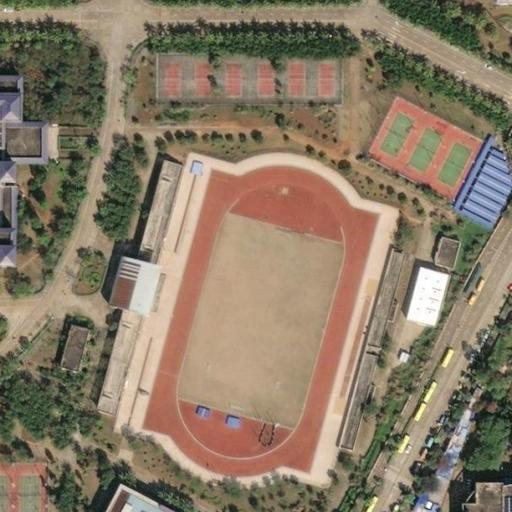building: (83, 304, 135, 410), (94, 238, 152, 310), (353, 245, 393, 346), (325, 350, 365, 448), (127, 159, 170, 249), (441, 136, 482, 208), (393, 264, 439, 323), (449, 469, 512, 512), (411, 445, 453, 507), (98, 482, 184, 512), (0, 116, 38, 177), (442, 386, 476, 439), (49, 320, 76, 367), (423, 236, 448, 267), (464, 175, 498, 196), (469, 166, 502, 187), (453, 198, 486, 219), (451, 202, 484, 223), (448, 207, 481, 228), (466, 172, 499, 192), (462, 181, 495, 201), (460, 185, 492, 205), (457, 190, 489, 209), (456, 193, 487, 212), (471, 163, 501, 182), (403, 497, 428, 512), (476, 153, 498, 169), (499, 425, 512, 452), (474, 157, 495, 173), (436, 433, 454, 450), (177, 161, 190, 175), (375, 300, 385, 318), (386, 350, 398, 363), (478, 148, 492, 159)
